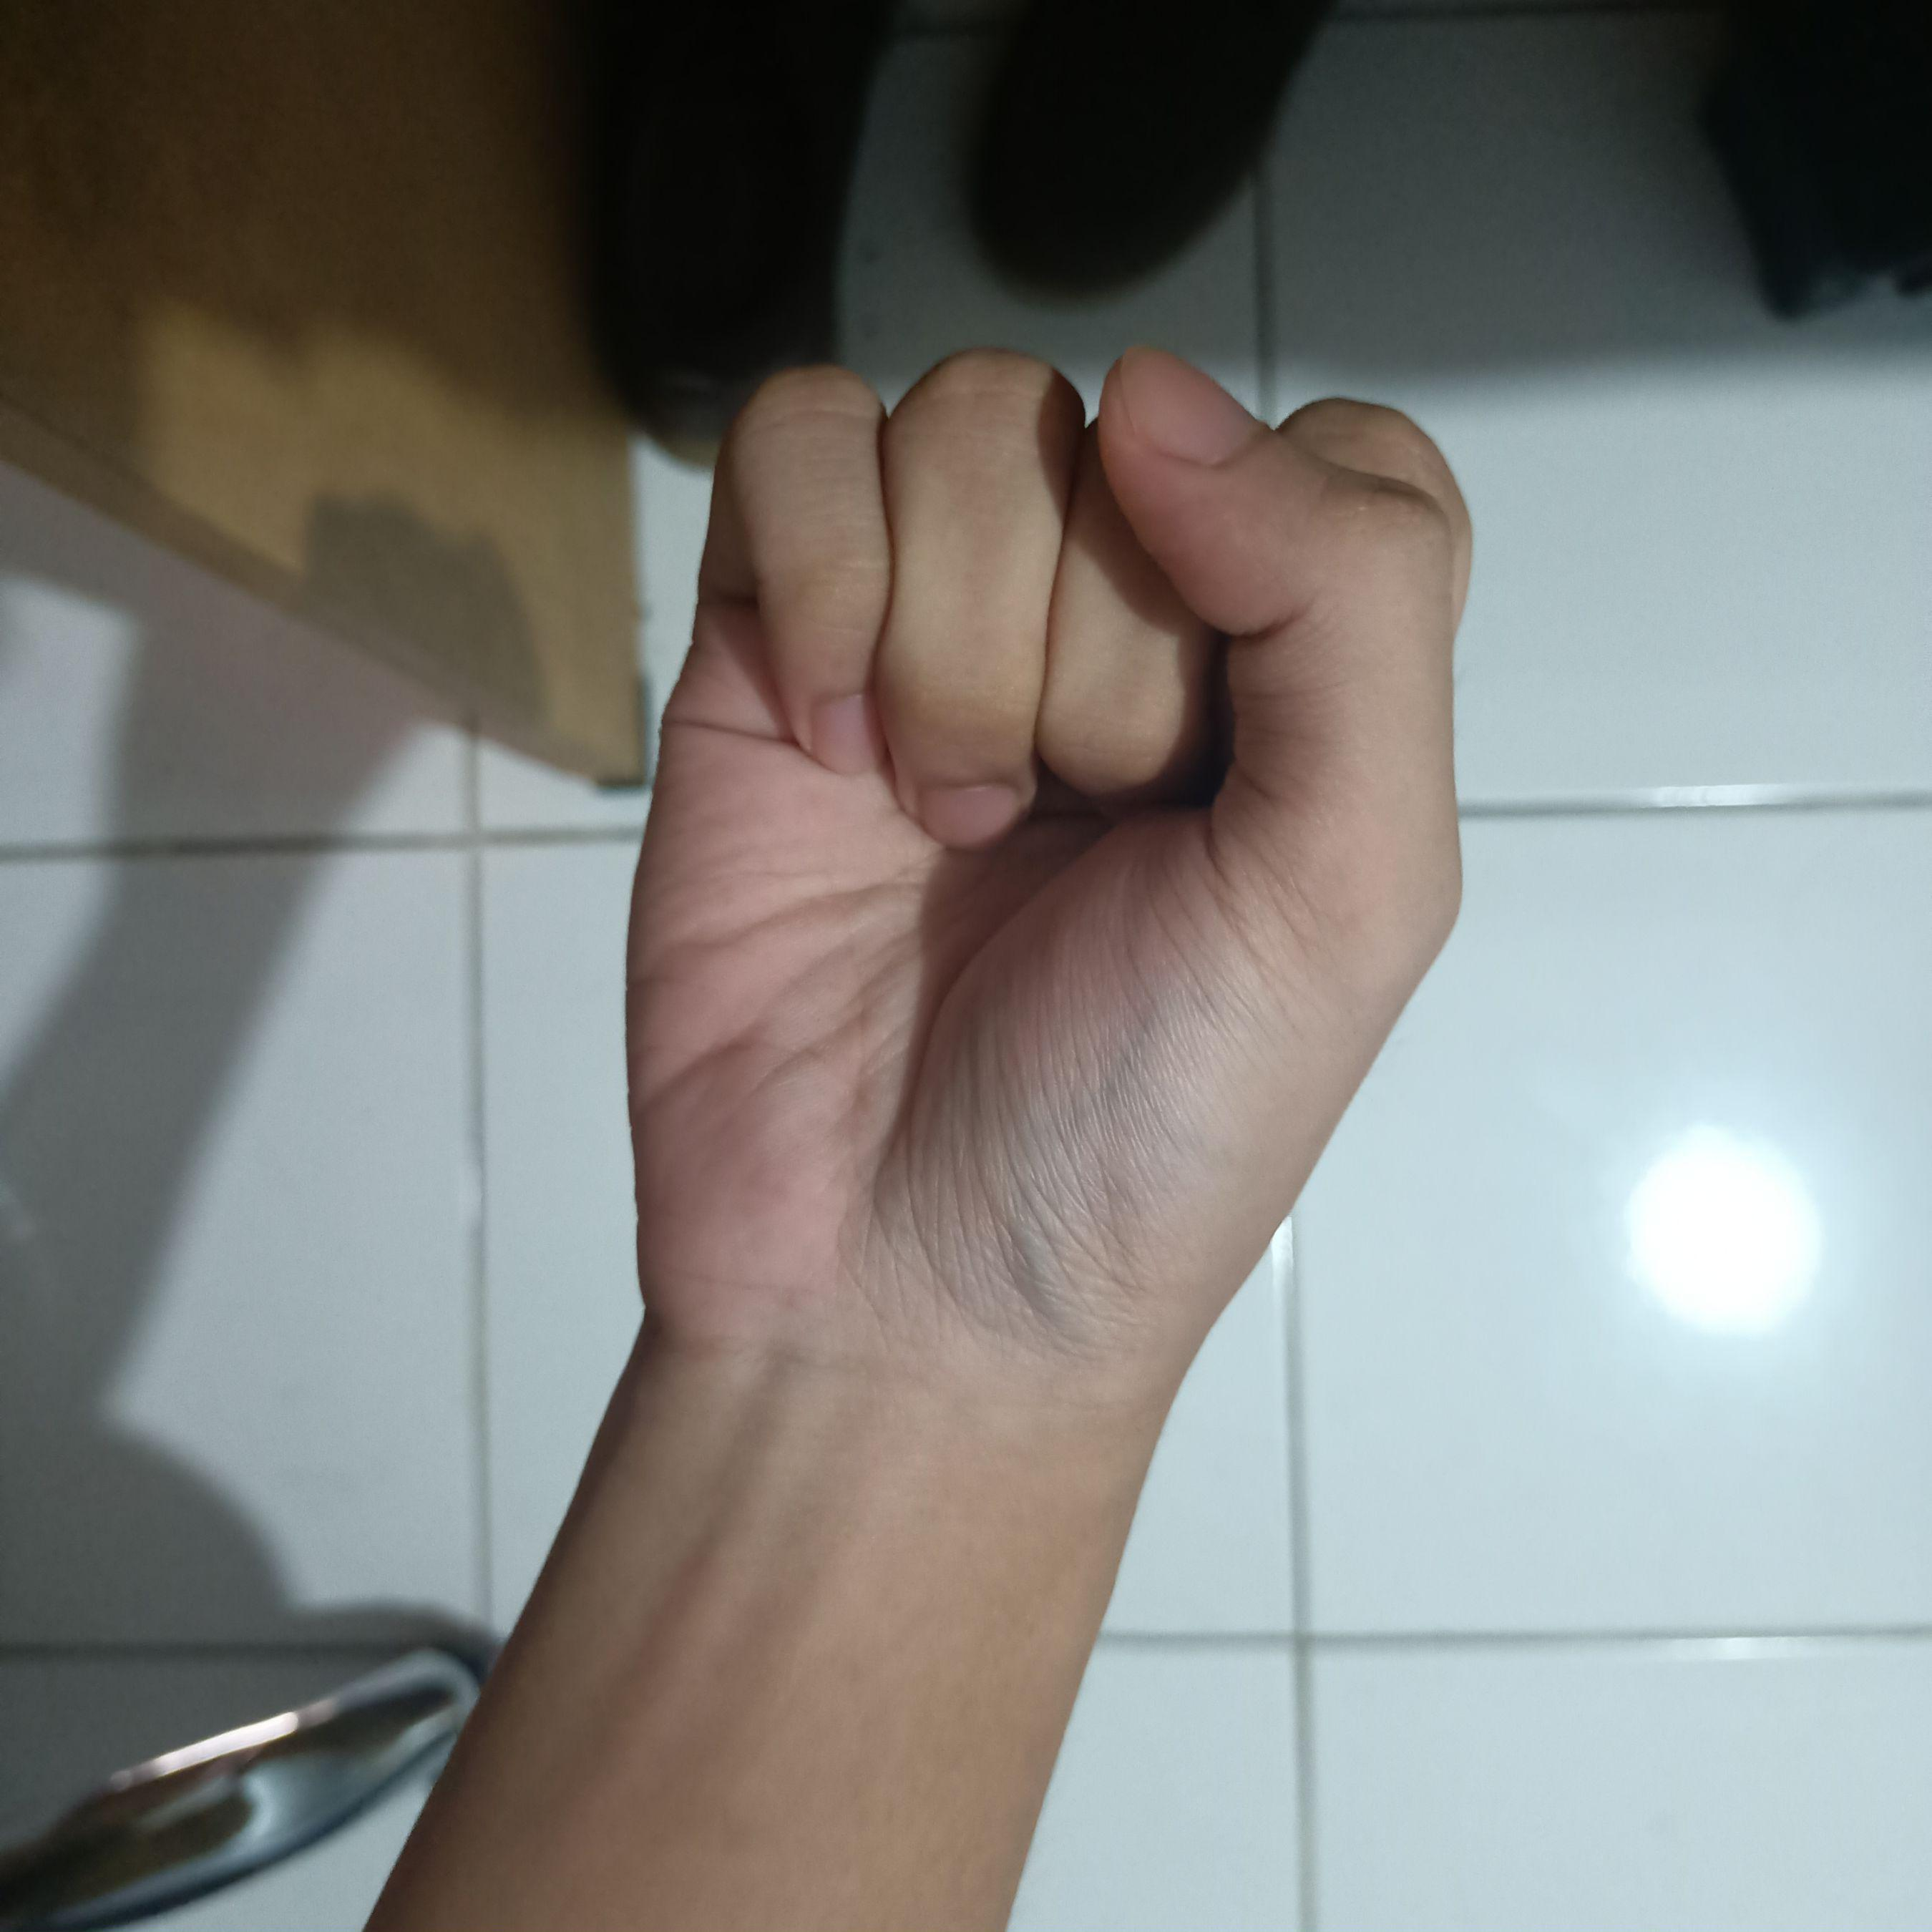rock: (609, 331, 1486, 1438)
